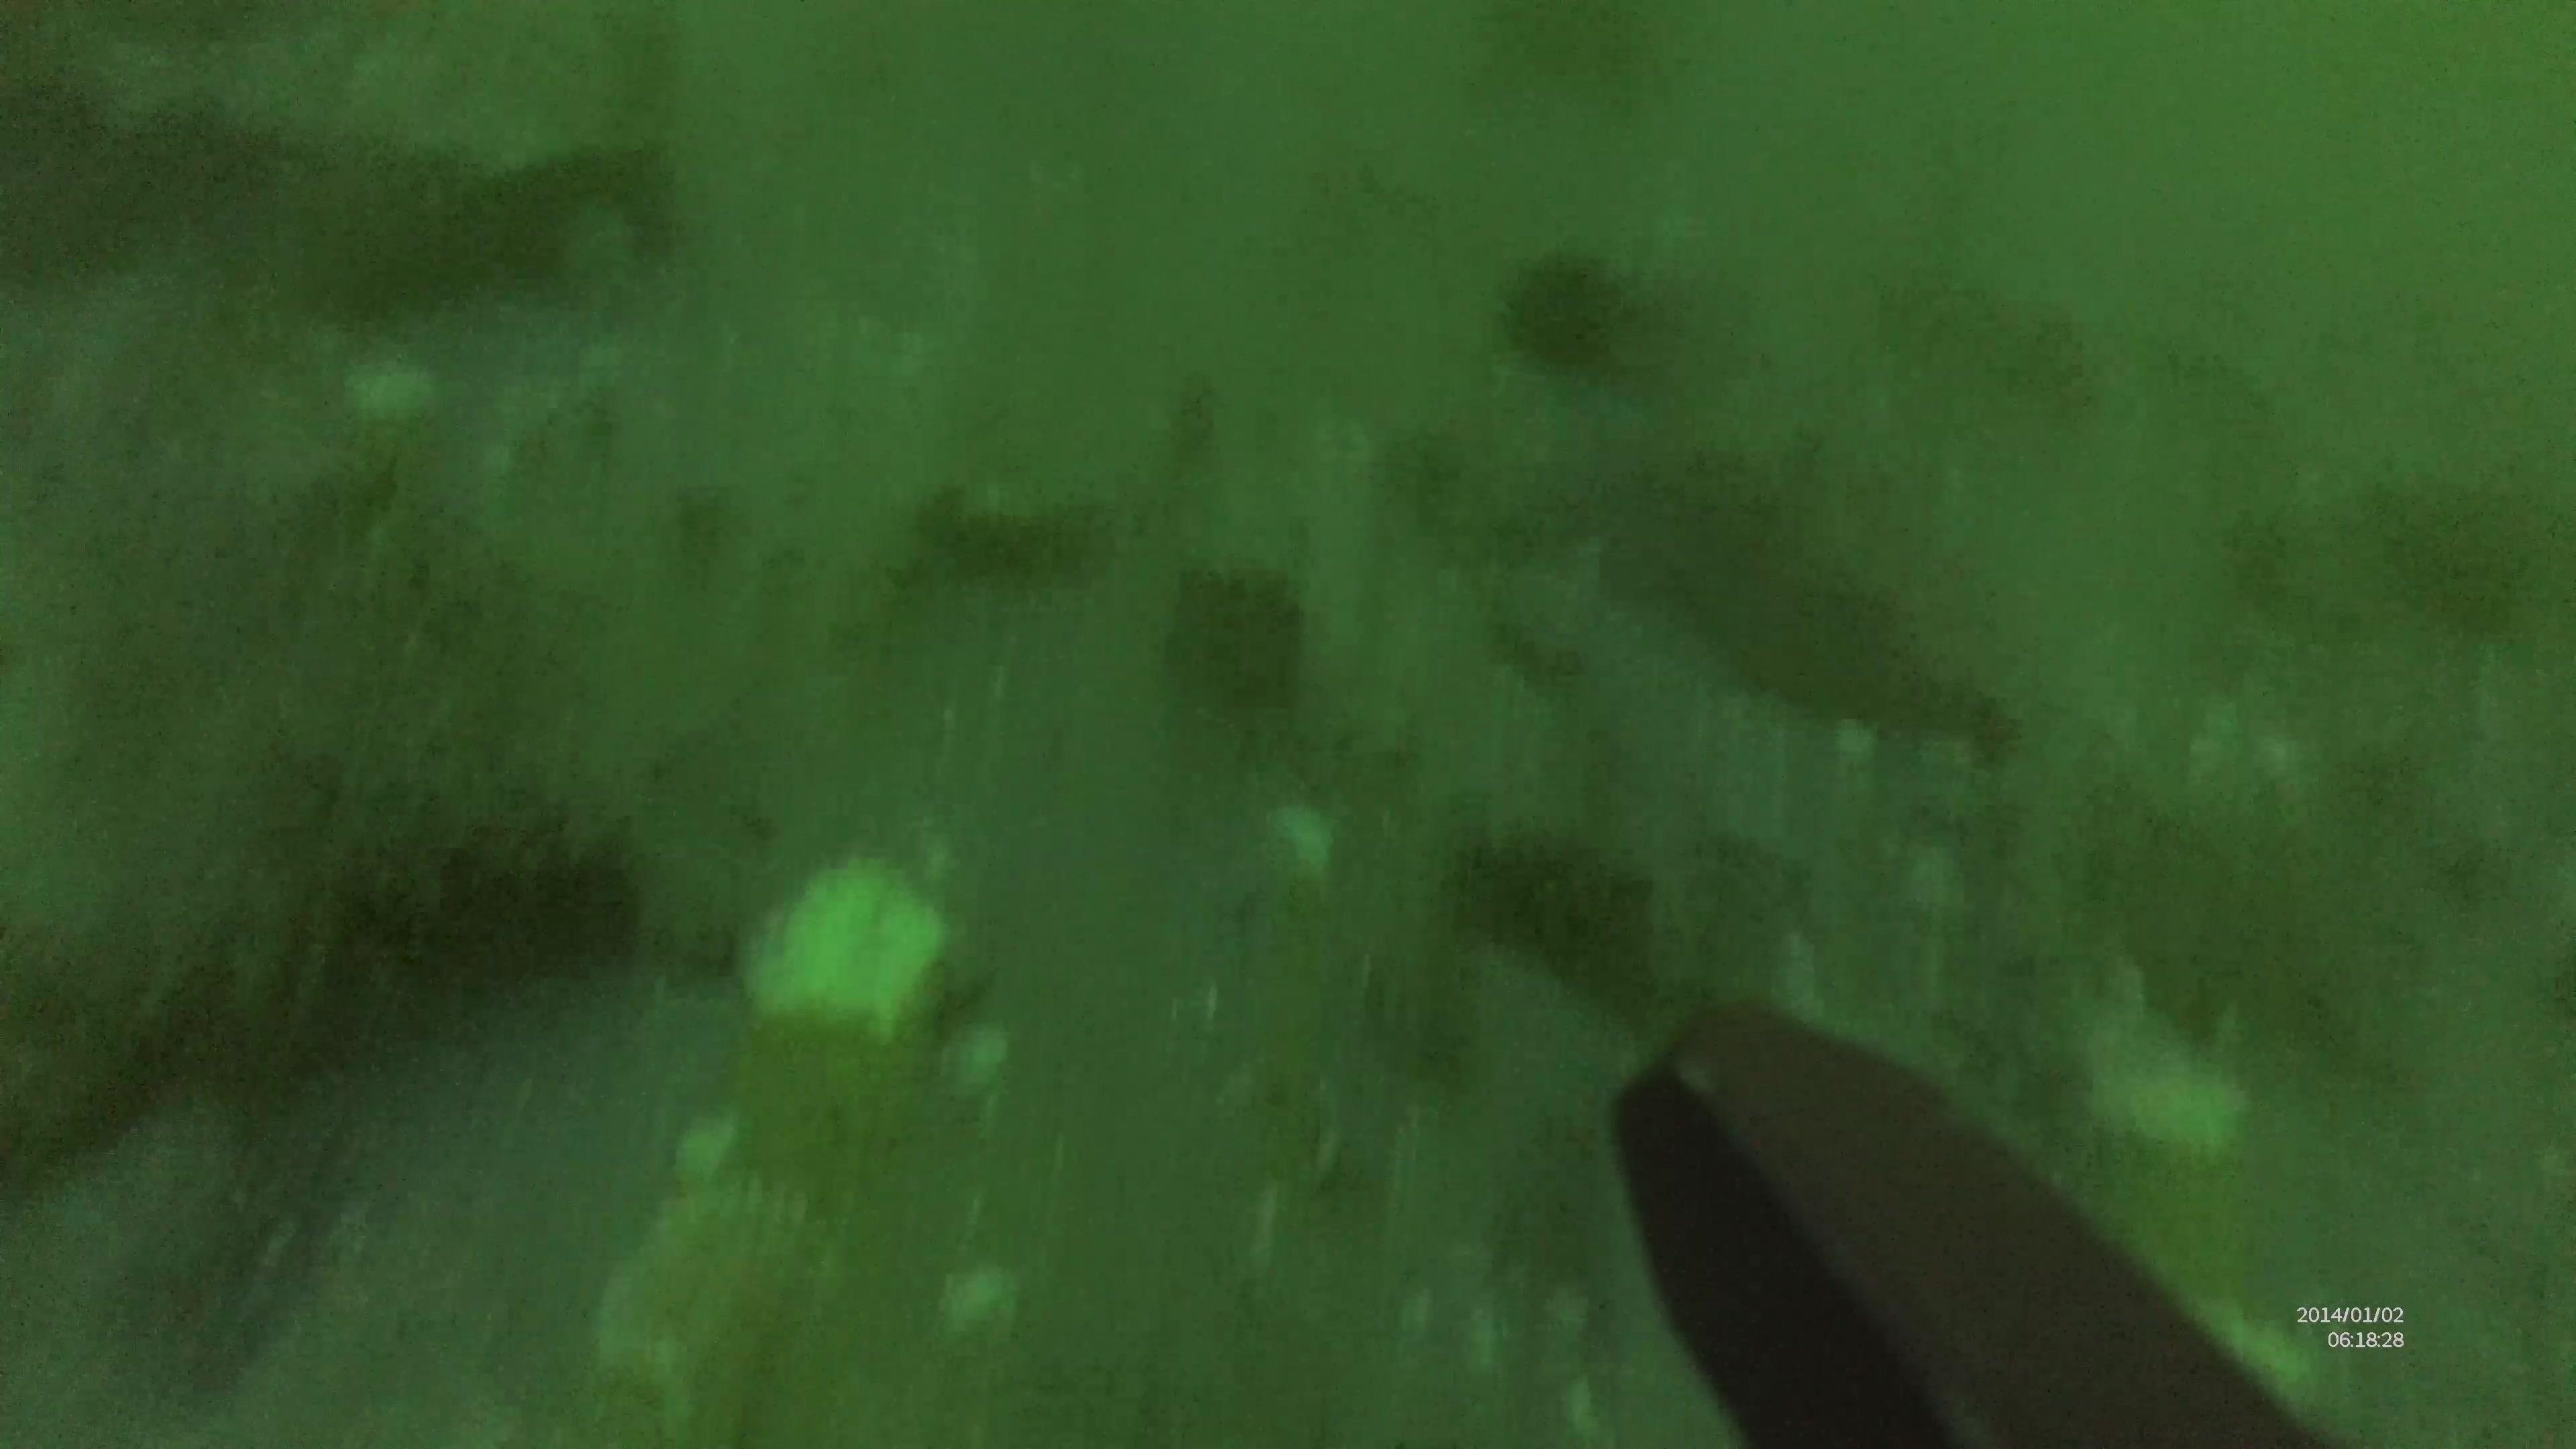echinus: (1491, 244, 1640, 384)
